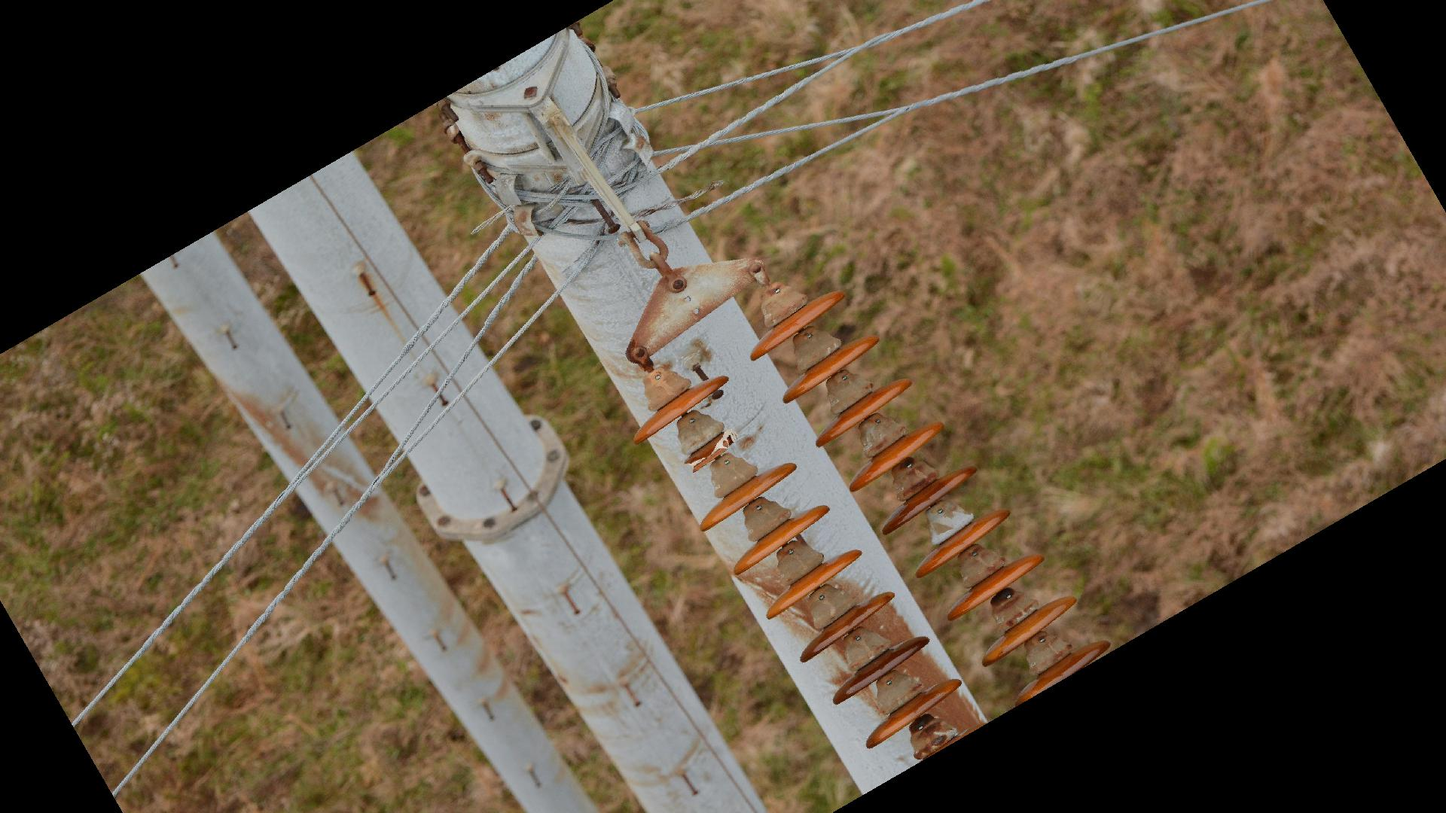insulator: (745, 287, 1118, 715), (630, 373, 970, 754)
insulator_breakage: (682, 426, 740, 474)
